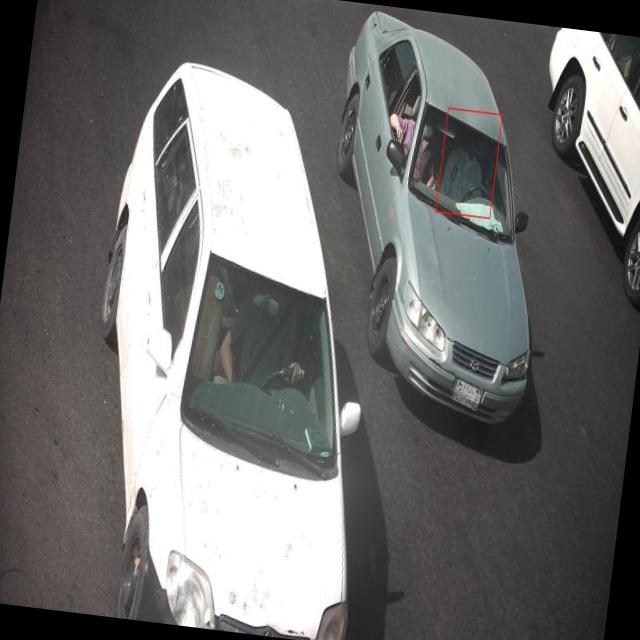person_with_seatbelt: (216, 276, 330, 411)
person_without_seatbelt: (434, 133, 504, 220)
